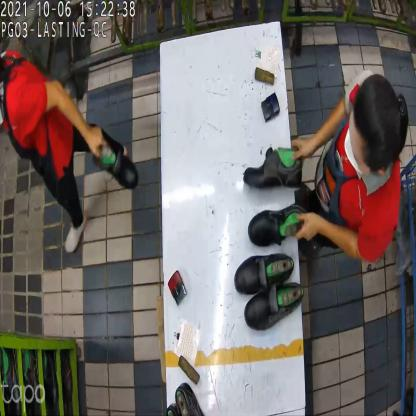shoes: (242, 147, 305, 240), (232, 253, 304, 331)
stamp: (262, 91, 281, 124), (170, 271, 188, 304)
